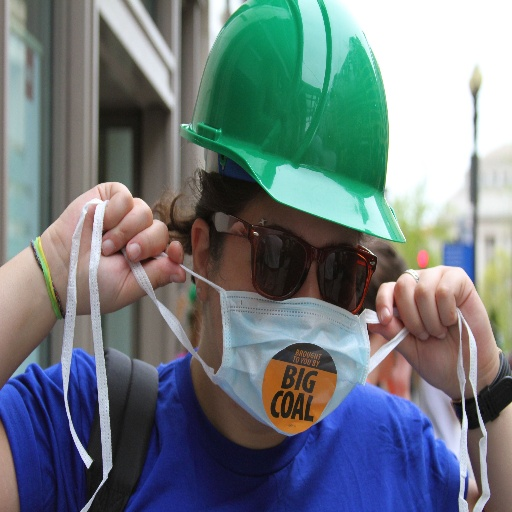hand: (40, 180, 187, 316), (382, 268, 495, 407)
